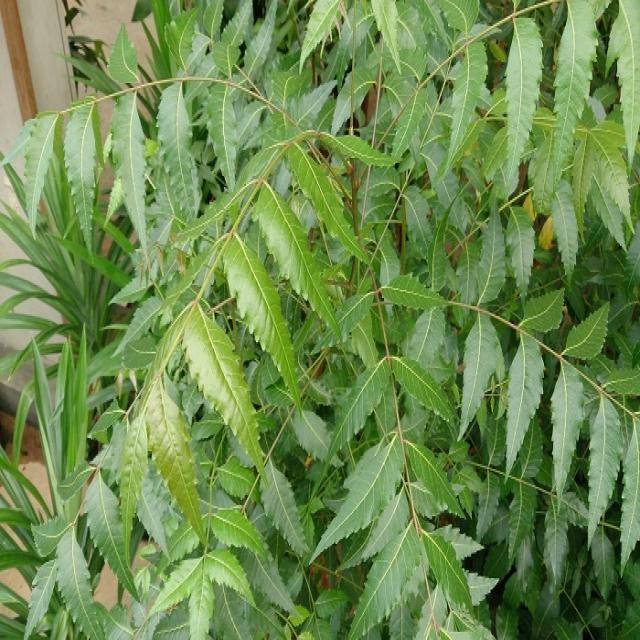Medicinal-Neem: (4, 4, 640, 637)
